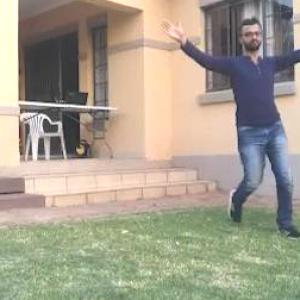takeoff: (165, 16, 299, 241)
